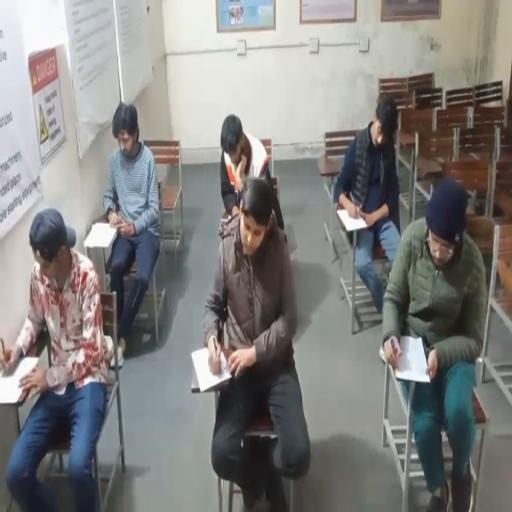paper: (378, 334, 470, 385), (0, 354, 40, 404), (191, 345, 231, 392), (393, 334, 432, 382), (0, 358, 38, 404), (192, 348, 231, 392), (395, 336, 429, 382), (0, 374, 31, 404), (336, 207, 370, 232), (84, 223, 117, 248), (11, 355, 41, 382), (85, 222, 117, 247), (337, 210, 367, 231), (219, 350, 229, 376)
